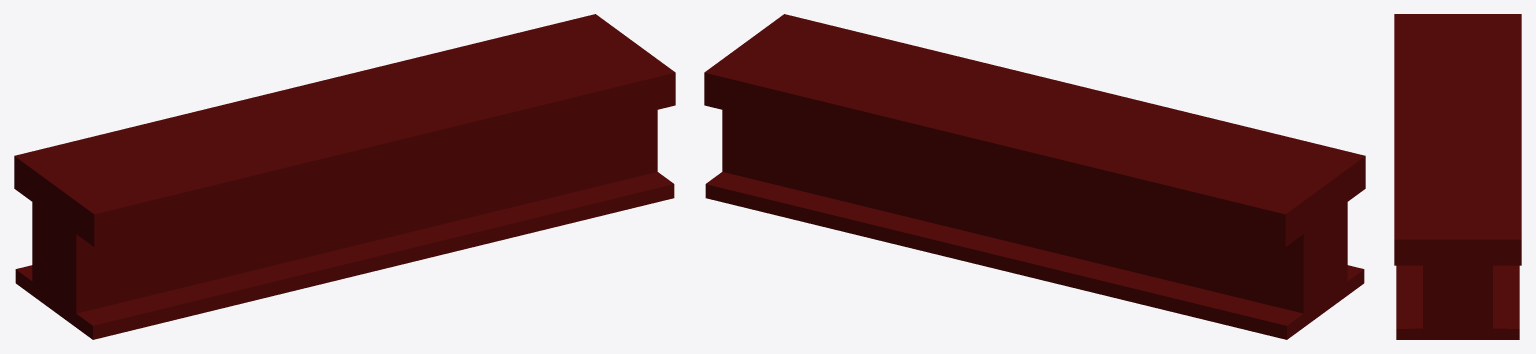
Rendered from raptor.obj.
3 views of the same model, side by side, from view 1: azimuth 30°, elevation 25°; view 2: azimuth 150°, elevation 25°; view 3: azimuth 270°, elevation 25° (orthographic). The views are drawn at different scales.
Size of the model in its own units: 1.65 by 0.3429 by 0.3937.
